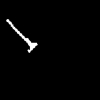half_double_crochet: (7, 19, 36, 51)
